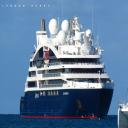cruises: (20, 14, 116, 122)
